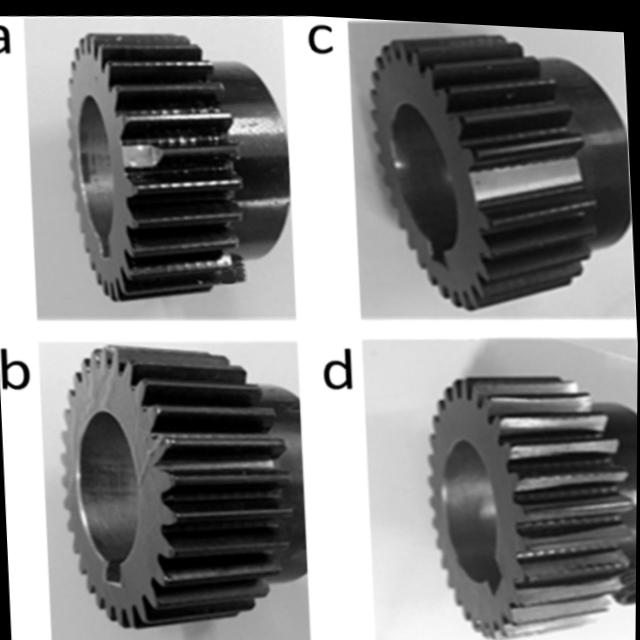Fault-Exist: (420, 36, 594, 296), (94, 36, 241, 307), (516, 427, 623, 590)
